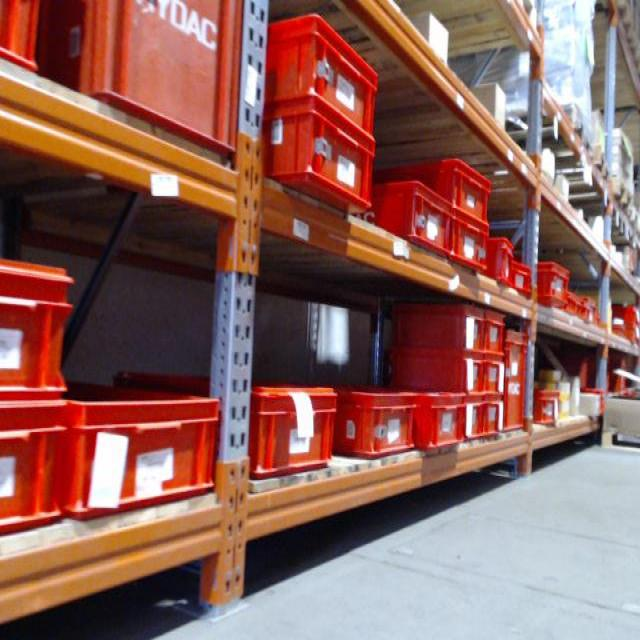pallet: (308, 3, 543, 78), (588, 174, 639, 218), (578, 133, 613, 191)
small_load_carrier: (52, 4, 242, 163), (61, 388, 234, 532), (103, 384, 336, 475), (248, 12, 384, 148), (260, 104, 376, 213), (1, 245, 86, 392), (0, 399, 68, 543), (385, 155, 496, 229), (335, 370, 414, 471), (359, 178, 450, 254), (374, 344, 484, 392), (382, 302, 484, 353), (497, 330, 537, 430), (3, 4, 53, 80), (441, 218, 492, 277), (417, 389, 465, 450), (532, 257, 569, 312), (482, 231, 511, 285), (479, 311, 508, 359), (460, 392, 485, 443), (536, 376, 563, 423), (479, 357, 506, 399), (512, 260, 534, 306), (603, 300, 639, 326), (479, 401, 505, 434), (565, 289, 575, 319), (628, 327, 639, 351)
